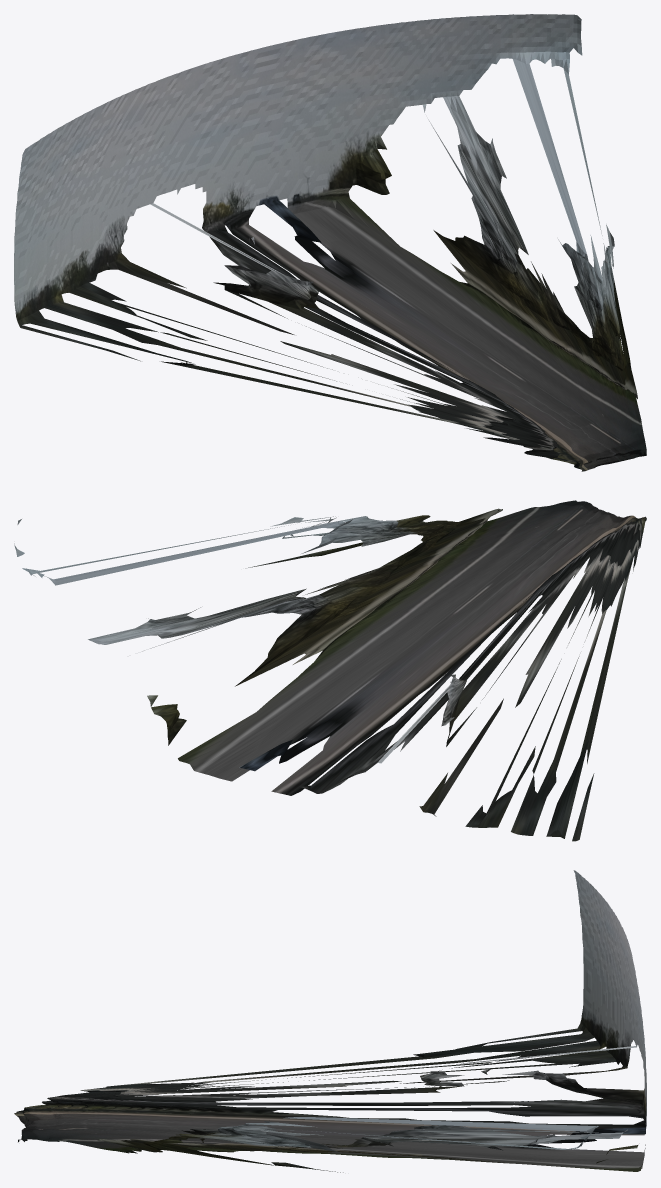
3 views of the same model, one above another, from view 1: azimuth 30°, elevation 25°; view 2: azimuth 150°, elevation 25°; view 3: azimuth 270°, elevation 25° (orthographic). The views are drawn at different scales.
Visible parts, largest first — view 1: defaultobject; view 2: defaultobject; view 3: defaultobject.
Part boxes in pixels (box(x1,y1,x2,y2)): defaultobject: box(14, 14, 646, 471); defaultobject: box(14, 500, 646, 841); defaultobject: box(14, 870, 646, 1172).
Size of the model in its own units: 40.88 by 13.24 by 44.64.
Materials: 1 (1 with a texture image).
